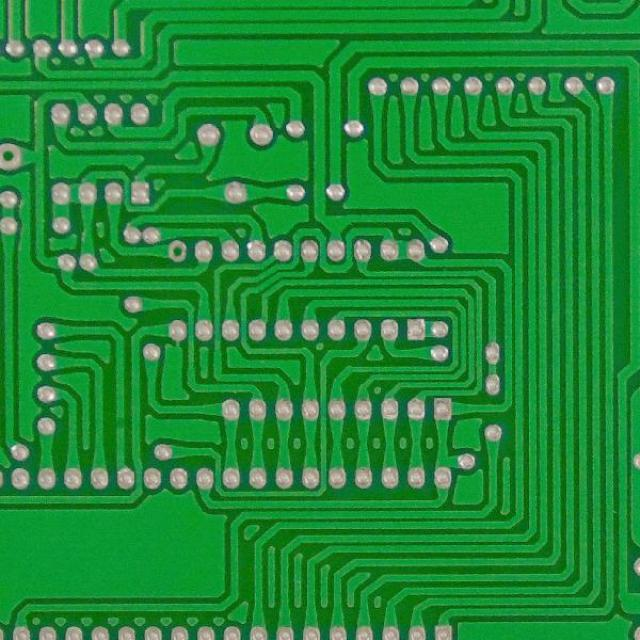Missing_Hole: (0, 138, 25, 172), (165, 238, 188, 263)
